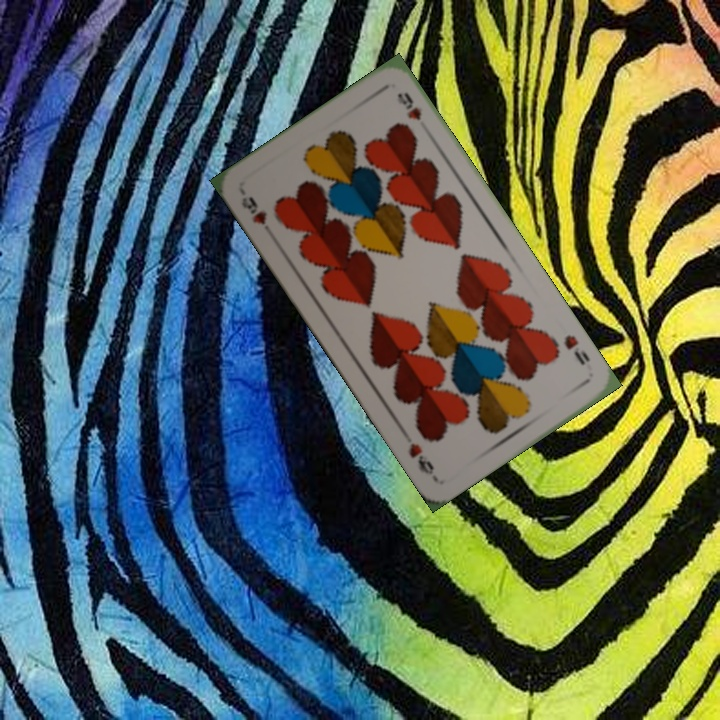H9: (560, 330, 593, 368), (237, 192, 270, 227)
